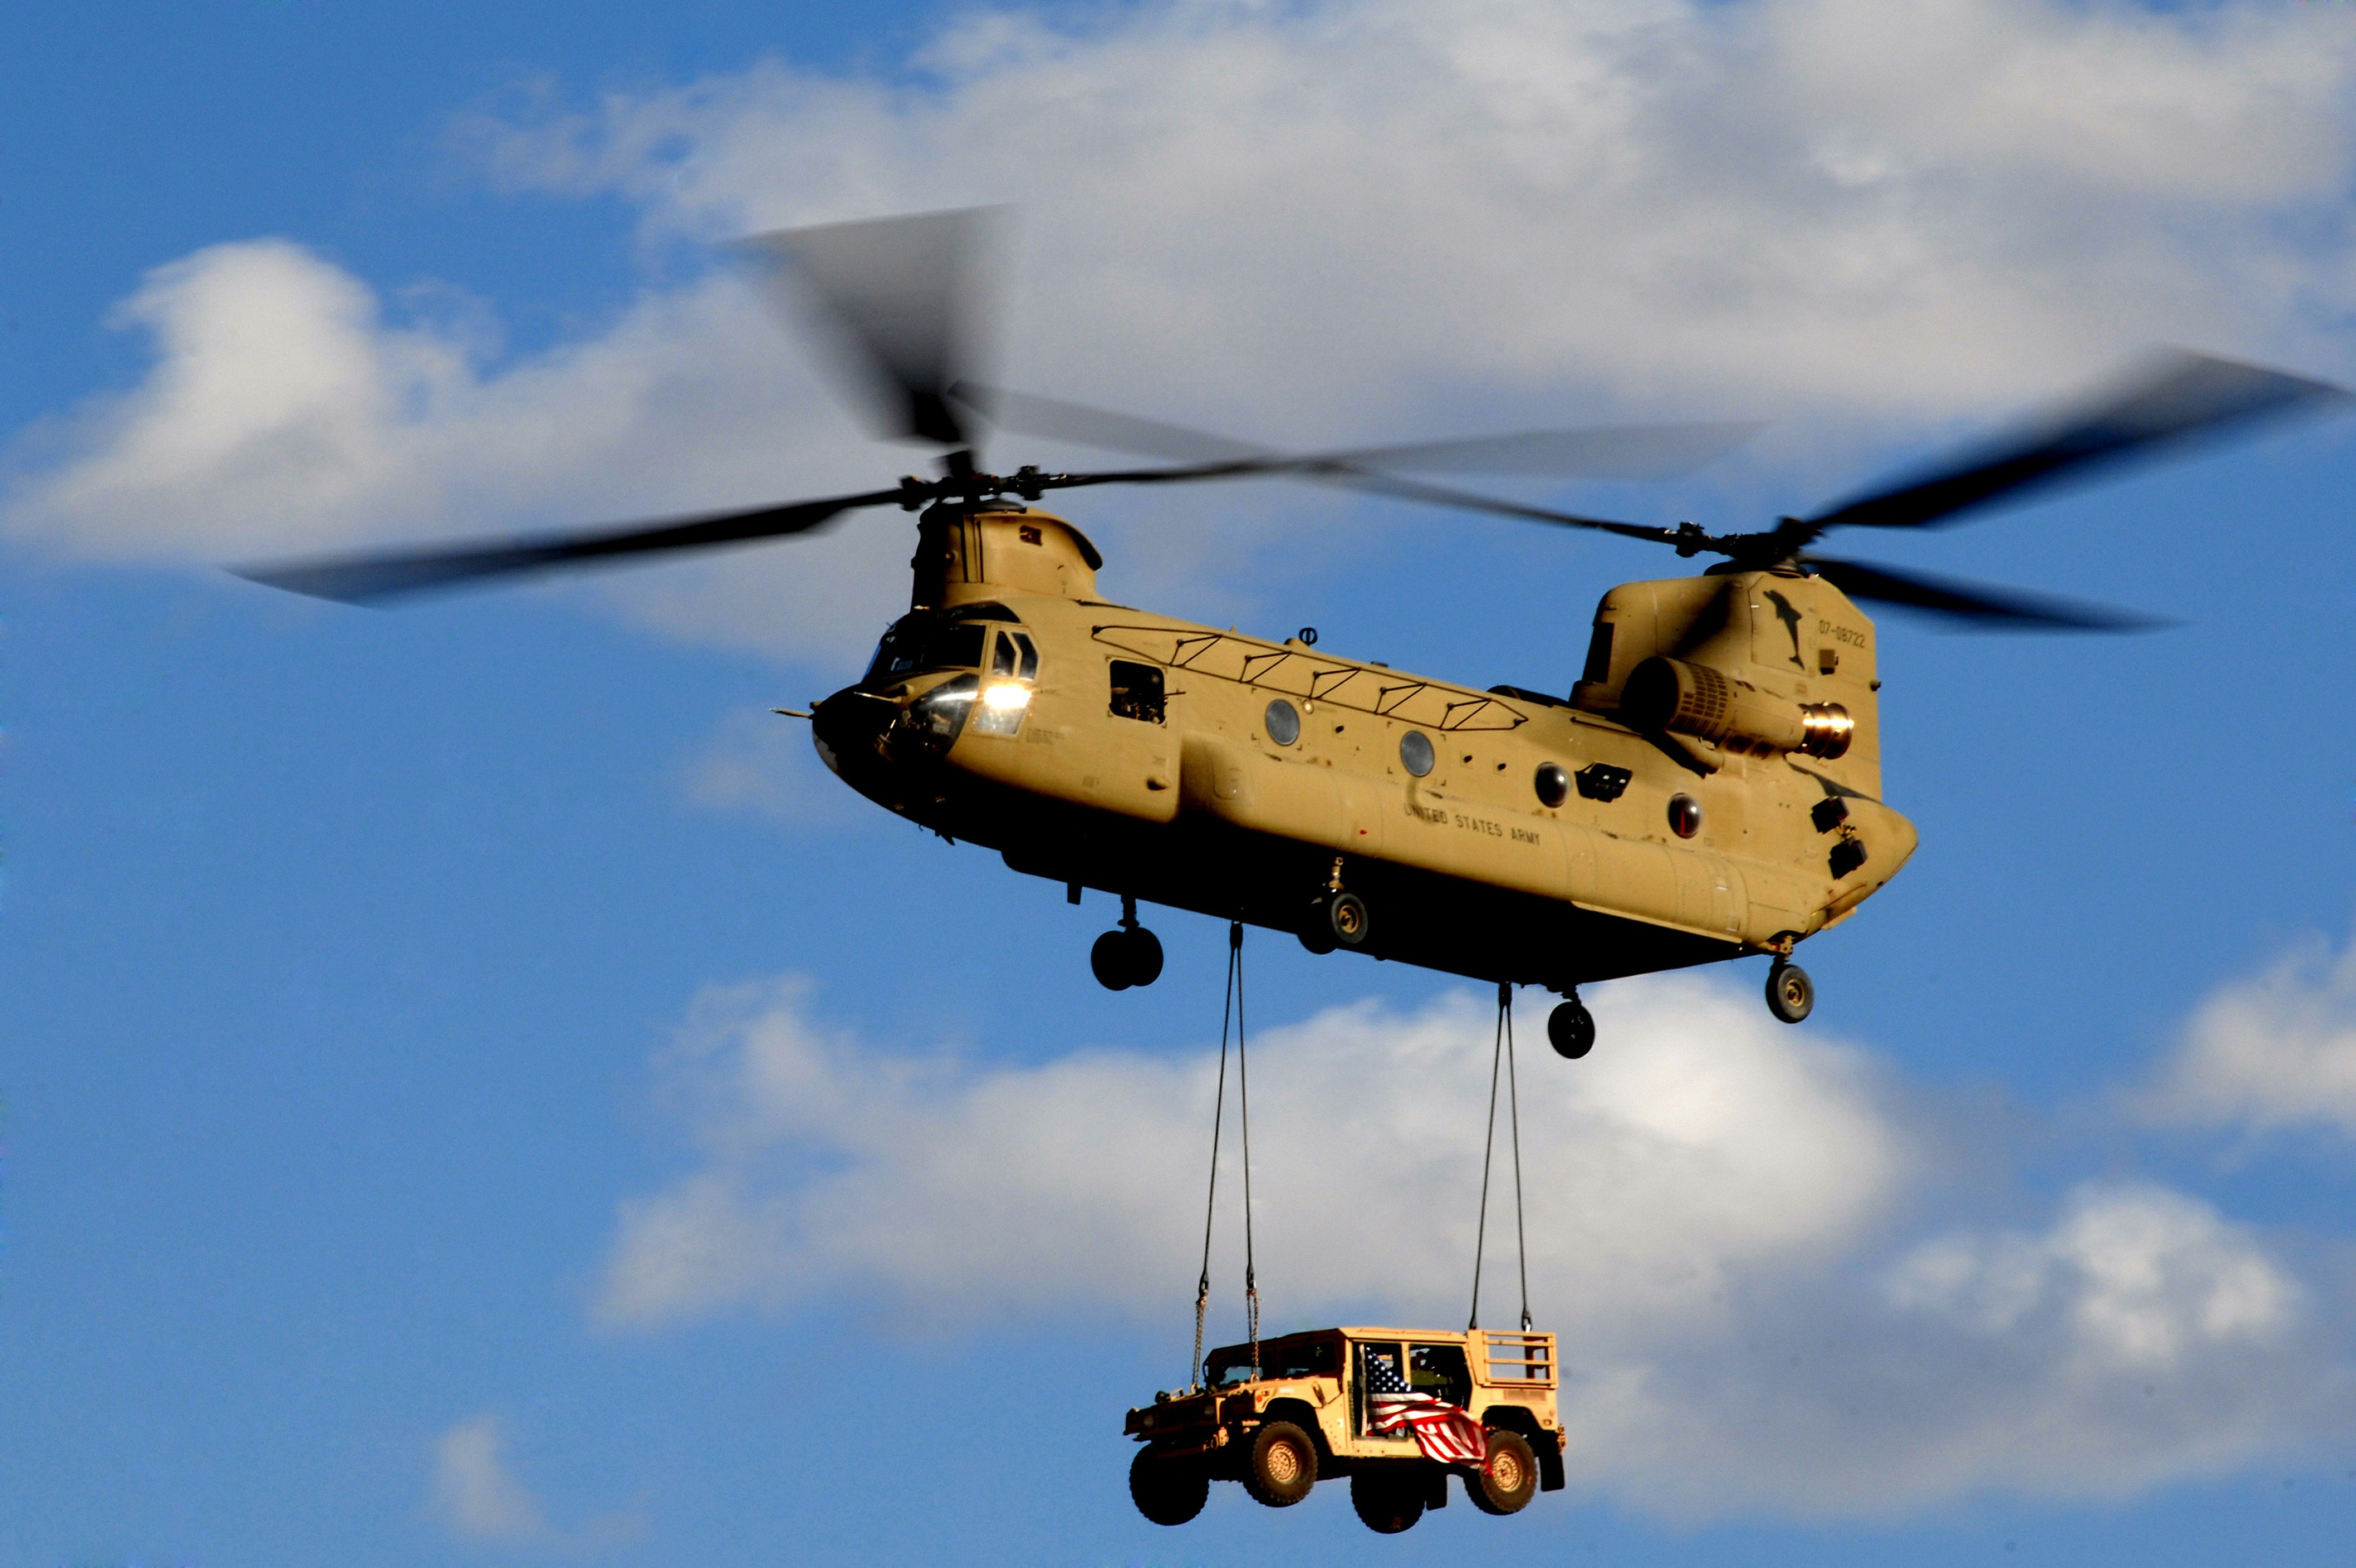chinook: (374, 199, 2307, 1046)
